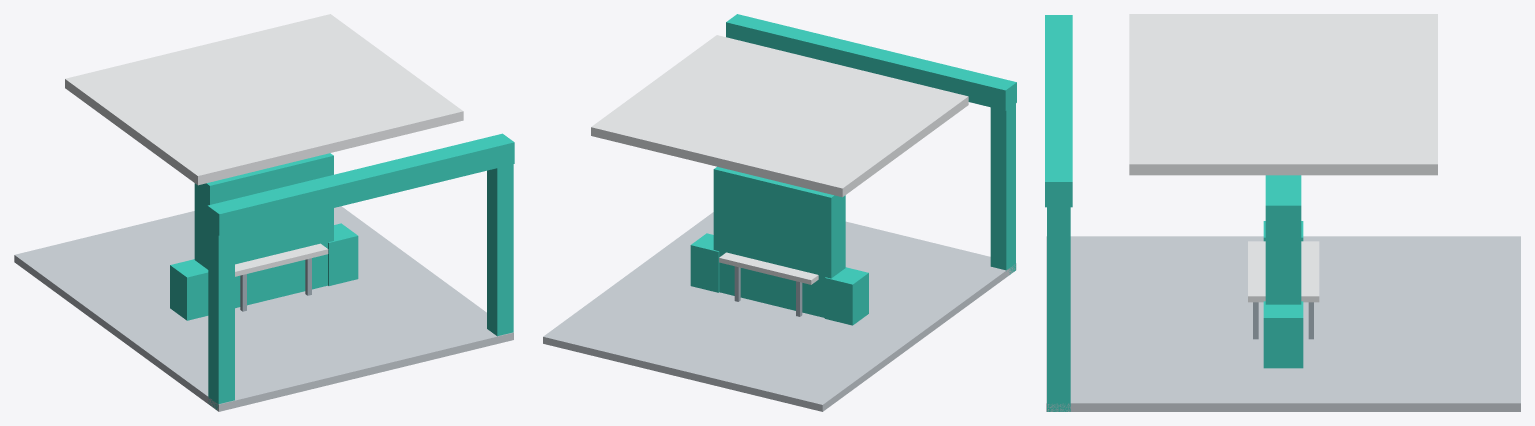
3 views of the same model, side by side, from view 1: azimuth 30°, elevation 25°; view 2: azimuth 150°, elevation 25°; view 3: azimuth 270°, elevation 25° (orthographic). The views are drawn at different scales.
Visible parts, largest first — view 1: Exhibition Booth Concept; view 2: Exhibition Booth Concept; view 3: Exhibition Booth Concept.
Boxes of the visible parts, x1,y1,x2,y2 form: Exhibition Booth Concept: [14, 14, 514, 411]; Exhibition Booth Concept: [543, 14, 1016, 411]; Exhibition Booth Concept: [1045, 14, 1520, 411].
Bounding box in the file's own units: 5 × 3.34 × 6.02.
